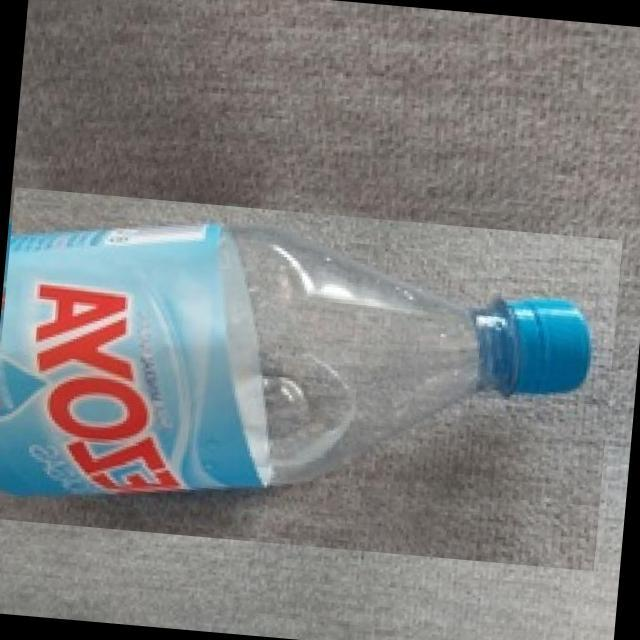good: (0, 186, 621, 570)
